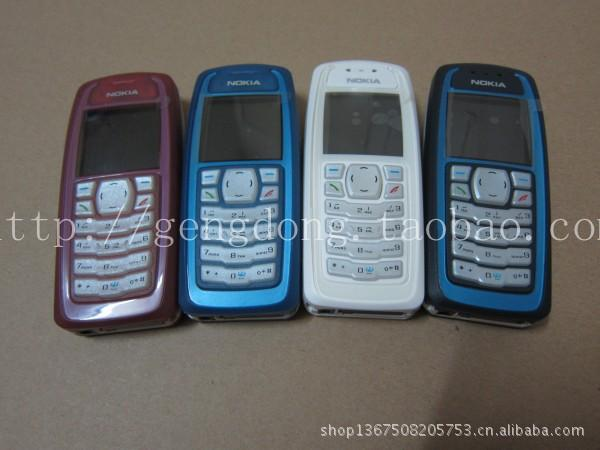phone: (308, 60, 431, 324), (431, 61, 550, 333), (55, 72, 174, 332), (179, 62, 295, 325)
